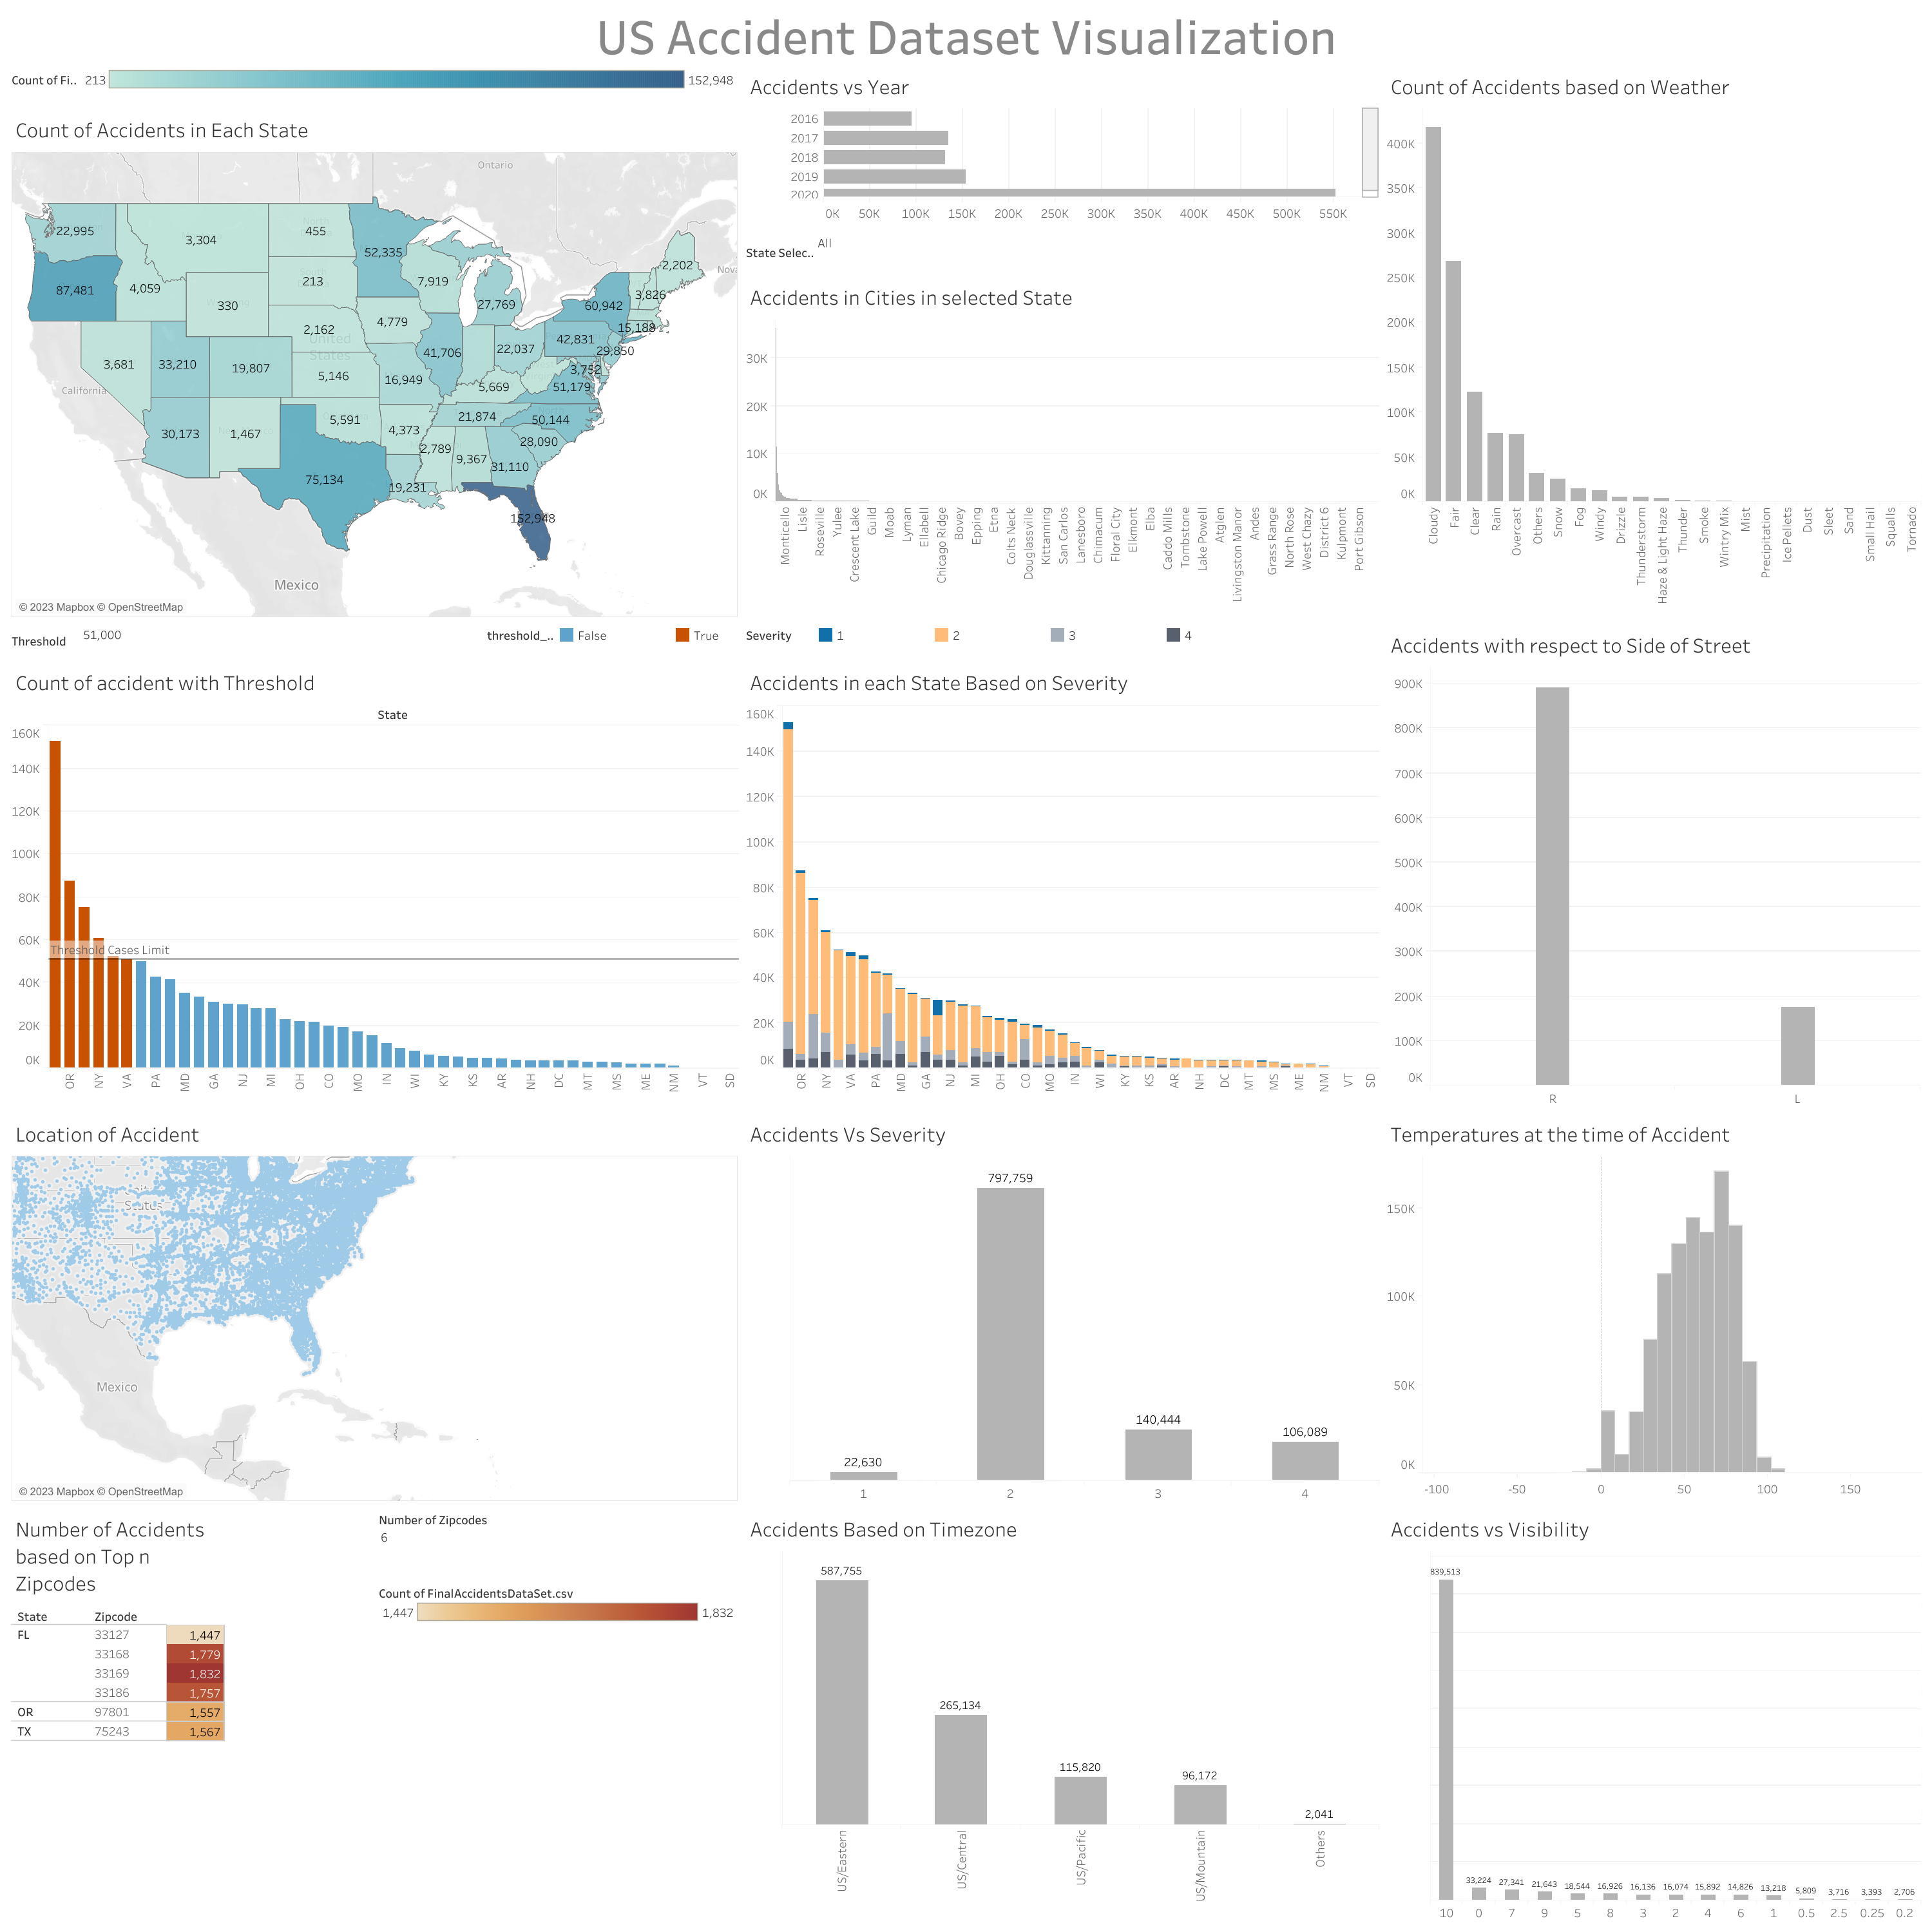

This screenshot's page, from the dashboard's own definition file:
{"tool":"tableau","page":{"name":"Dashboard 2","canvas":[2000,2500],"ordinal":1},"visuals":[{"type":"text","box":[8,8,1984,71]},{"type":"legend","title":"Question 1","param":"[federated.12r5r5312ma0jy192h9af0embmmd].[__tableau_internal_object_id__].[cnt:F","box":[8,79,760,57]},{"type":"worksheet","title":"Question 3 P1","mark":"Bar","rows":["Start_Time"],"cols":["FinalAccidentsDataSet.csv_E2F2D40EDD0C480A911D87A1E1E2866C"],"box":[768,79,663,217.6]},{"type":"worksheet","title":"Question 7","mark":"Automatic","rows":["FinalAccidentsDataSet.csv_E2F2D40EDD0C480A911D87A1E1E2866C"],"box":[1431,79,561,681]},{"type":"worksheet","title":"Question 1","mark":"Automatic","box":[8,136,760,667.7]},{"type":"parameter","param":"[Parameters].[Parameter 2]","box":[768,296.6,663,56.4]},{"type":"worksheet","title":"Question 2","mark":"Automatic","rows":["FinalAccidentsDataSet.csv_E2F2D40EDD0C480A911D87A1E1E2866C"],"cols":["City"],"box":[768,353,663,603.2]},{"type":"worksheet","title":"Question 8","mark":"Automatic","rows":["FinalAccidentsDataSet.csv_E2F2D40EDD0C480A911D87A1E1E2866C"],"cols":["Street_Side"],"box":[1431,760,561,554]},{"type":"parameter","param":"[Parameters].[Parameter 1]","box":[8,803.7,492,48.6]},{"type":"legend","title":"Question 1a","param":"[federated.12r5r5312ma0jy192h9af0embmmd].[usr:Calculation_4531113851138666496:nk","box":[500,803.7,268,48.6]},{"type":"worksheet","title":"Question 1a","mark":"Automatic","rows":["FinalAccidentsDataSet.csv_E2F2D40EDD0C480A911D87A1E1E2866C"],"cols":["State"],"box":[8,852.2,760,647]},{"type":"legend","title":"Question 9","param":"[federated.12r5r5312ma0jy192h9af0embmmd].[none:Severity:ok]","box":[768,956.2,663,45.7]},{"type":"worksheet","title":"Question 9","mark":"Automatic","rows":["FinalAccidentsDataSet.csv_E2F2D40EDD0C480A911D87A1E1E2866C"],"cols":["State"],"box":[768,1001.9,663,434.2]},{"type":"worksheet","title":"Question 11","mark":"Automatic","rows":["Temperature_F"],"cols":["Temperature F (bin)"],"box":[1431,1314,561,635]},{"type":"worksheet","title":"Question 5","mark":"Automatic","rows":["FinalAccidentsDataSet.csv_E2F2D40EDD0C480A911D87A1E1E2866C"],"cols":["Severity"],"box":[768,1436.1,663,512.9]},{"type":"worksheet","title":"Question 6","mark":"Automatic","box":[8,1499.2,760,496.4]},{"type":"worksheet","title":"Question 4","mark":"Automatic","rows":["FinalAccidentsDataSet.csv_E2F2D40EDD0C480A911D87A1E1E2866C"],"cols":["Timezone"],"box":[768,1949,663,543]},{"type":"worksheet","title":"Question 12","mark":"Automatic","rows":["FinalAccidentsDataSet.csv_E2F2D40EDD0C480A911D87A1E1E2866C"],"cols":["Visibility_mi"],"box":[1431,1949,561,543]},{"type":"parameter","param":"[Parameters].[Parameter 3]","box":[8,1995.6,760,51.5]},{"type":"worksheet","title":"Question 10","mark":"Square","rows":["State","Zipcode"],"box":[8,2047.1,760,444.9]}]}

Visuals, with their boxes on the page's 2000x2500 design canvas (x1, y1, x2, y2). These are canvas units, not pixel positions in the 1932x1932 screenshot, which may show the page scaled, cropped or inside an application window:
text: bbox(8, 8, 1992, 79)
"Question 1" legend: bbox(8, 79, 768, 136)
"Question 3 P1" worksheet (Bar marks): bbox(768, 79, 1431, 297)
"Question 7" worksheet: bbox(1431, 79, 1992, 760)
"Question 1" worksheet: bbox(8, 136, 768, 804)
parameter: bbox(768, 297, 1431, 353)
"Question 2" worksheet: bbox(768, 353, 1431, 956)
"Question 8" worksheet: bbox(1431, 760, 1992, 1314)
parameter: bbox(8, 804, 500, 852)
"Question 1a" legend: bbox(500, 804, 768, 852)
"Question 1a" worksheet: bbox(8, 852, 768, 1499)
"Question 9" legend: bbox(768, 956, 1431, 1002)
"Question 9" worksheet: bbox(768, 1002, 1431, 1436)
"Question 11" worksheet: bbox(1431, 1314, 1992, 1949)
"Question 5" worksheet: bbox(768, 1436, 1431, 1949)
"Question 6" worksheet: bbox(8, 1499, 768, 1996)
"Question 4" worksheet: bbox(768, 1949, 1431, 2492)
"Question 12" worksheet: bbox(1431, 1949, 1992, 2492)
parameter: bbox(8, 1996, 768, 2047)
"Question 10" worksheet (Square marks): bbox(8, 2047, 768, 2492)
